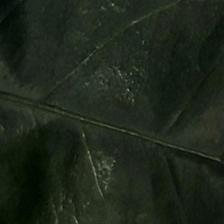healthy: (5, 7, 224, 224)
